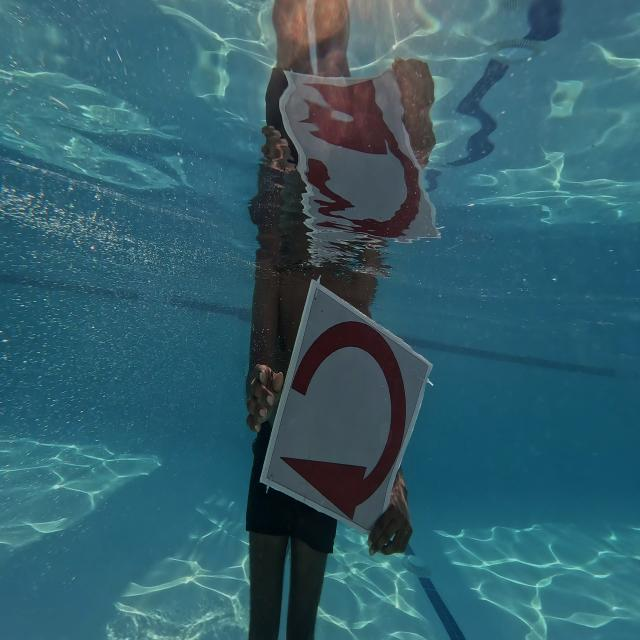red_side: (272, 282, 407, 535)
